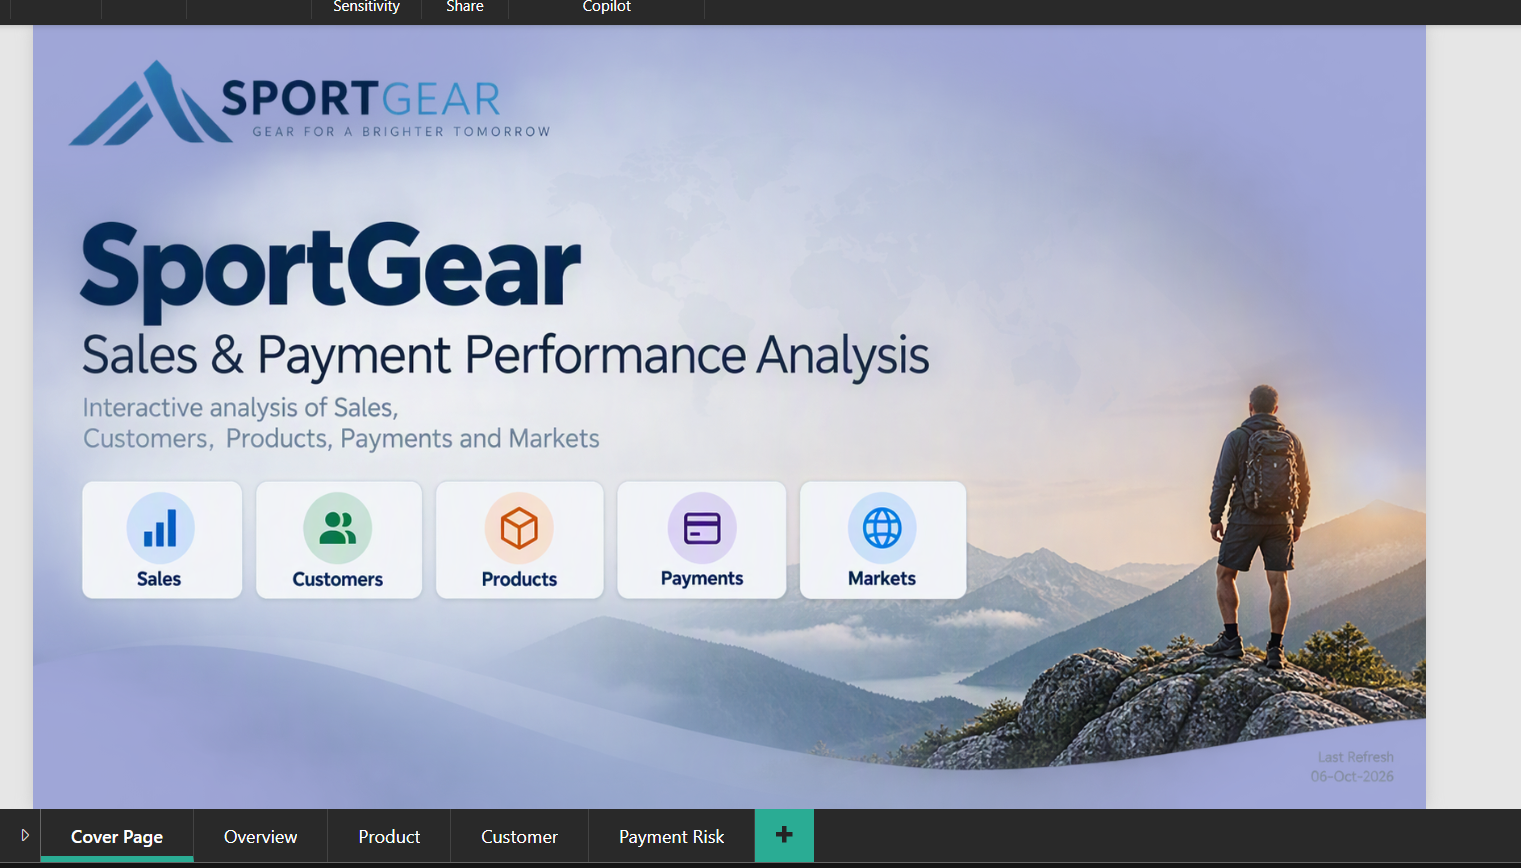

The dashboard page shown, as its layout file describes it:
{"tool":"powerbi","page":{"name":"Cover Page","canvas":[1920,1080],"ordinal":0},"visuals":[{"type":"textbox","box":[45.1,38.2,102.4,31.3],"z":0}]}

Visuals, with their boxes on the page's 1920x1080 design canvas (x1, y1, x2, y2). These are canvas units, not pixel positions in the 1521x868 screenshot, which may show the page scaled, cropped or inside an application window:
textbox: [left=45, top=38, right=148, bottom=70]
